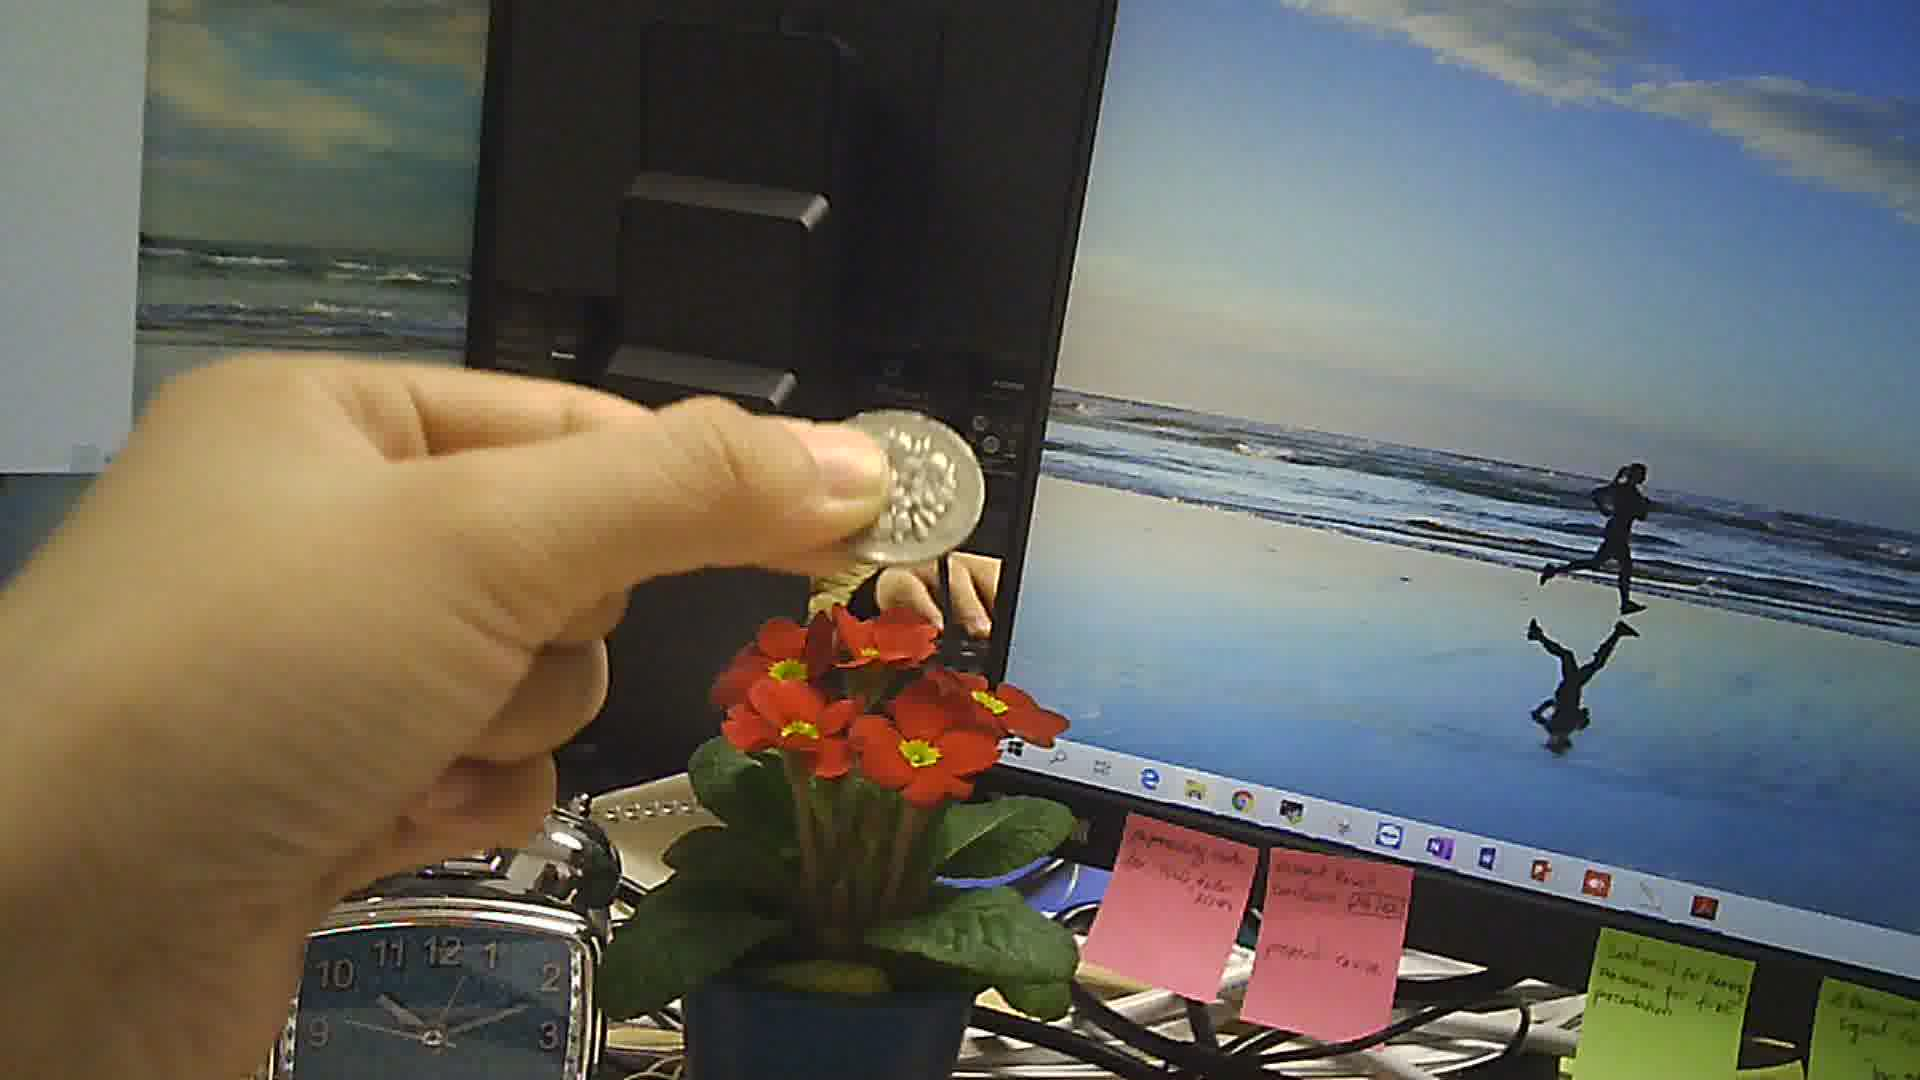100 Yen: (820, 401, 989, 576)
